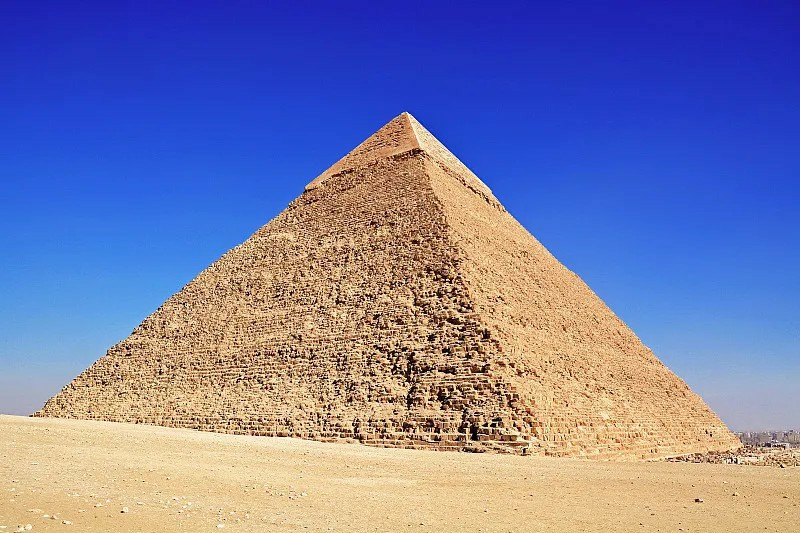Pyramid: (30, 112, 746, 461)
